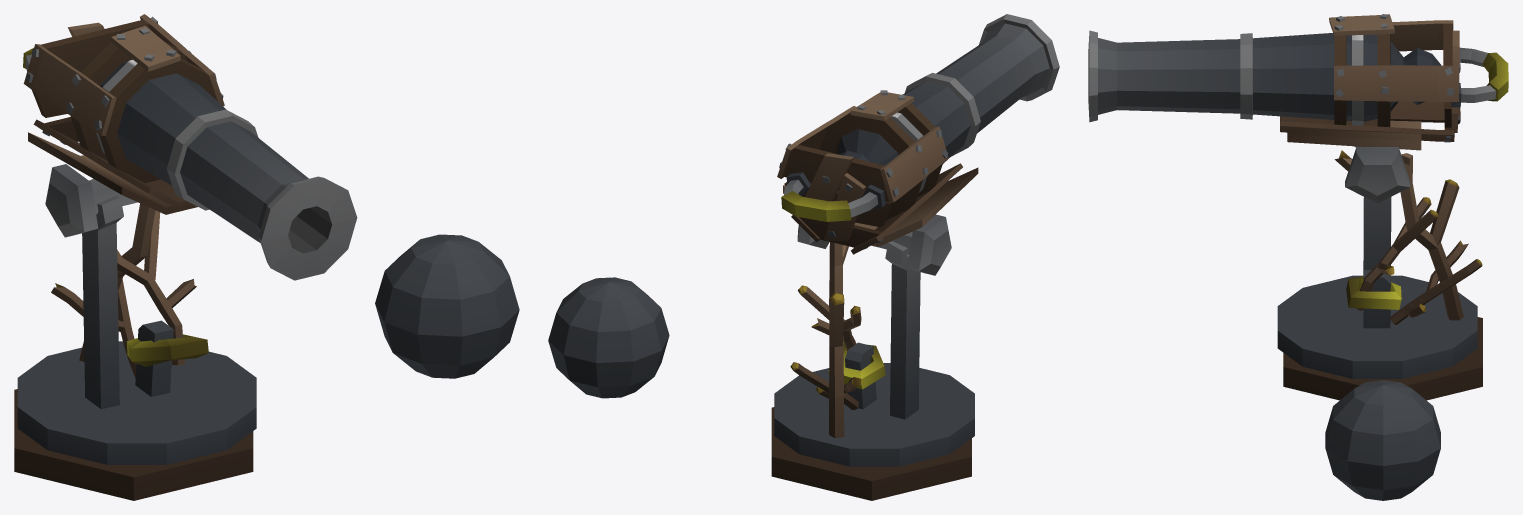
Rendered from goodcannon.fbx.
3 renders of one model, left to right at view 1: azimuth 30°, elevation 25°; view 2: azimuth 150°, elevation 25°; view 3: azimuth 270°, elevation 25°, orthographic. The views are drawn at different scales.
Parts seen in each view (by area): view 1: cannon, rotatingbase, cannonball, truebase, pivot; view 2: cannon, rotatingbase, cannonball, truebase, pivot; view 3: cannon, rotatingbase, cannonball, pivot, truebase.
Part boxes in pixels (left/top/right/bottom): cannon: left=23, top=14, right=357, bottom=280; rotatingbase: left=17, top=178, right=256, bottom=464; cannonball: left=375, top=234, right=519, bottom=378; truebase: left=14, top=389, right=253, bottom=500; pivot: left=28, top=132, right=197, bottom=237; cannon: left=777, top=14, right=1059, bottom=254; rotatingbase: left=774, top=241, right=974, bottom=466; cannonball: left=548, top=277, right=669, bottom=398; truebase: left=771, top=407, right=971, bottom=500; pivot: left=783, top=167, right=978, bottom=275; cannon: left=1088, top=14, right=1508, bottom=142; rotatingbase: left=1277, top=146, right=1482, bottom=378; cannonball: left=1325, top=380, right=1440, bottom=500; pivot: left=1287, top=120, right=1421, bottom=203; truebase: left=1283, top=317, right=1482, bottom=400.
Size of the model in its own units: 158 by 127 by 139.
